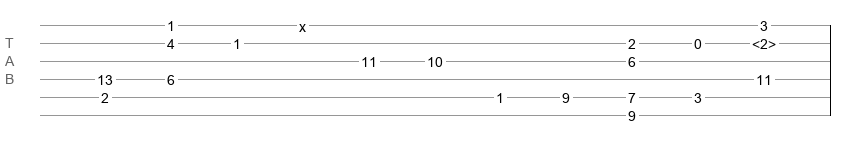0: (694, 36, 702, 46)
1: (167, 18, 175, 28), (233, 36, 241, 46), (496, 90, 504, 100)
10: (427, 54, 443, 64)
11: (361, 54, 377, 64), (756, 72, 772, 82)
13: (97, 72, 113, 82)
2: (101, 90, 109, 100), (628, 36, 636, 46)
3: (694, 90, 702, 100), (760, 18, 768, 28)
4: (167, 36, 175, 46)
6: (167, 72, 175, 82), (628, 54, 636, 64)
7: (628, 90, 636, 100)
9: (562, 90, 570, 100), (628, 108, 636, 118)
harmonic: (752, 36, 776, 46)
x: (299, 19, 306, 27)
